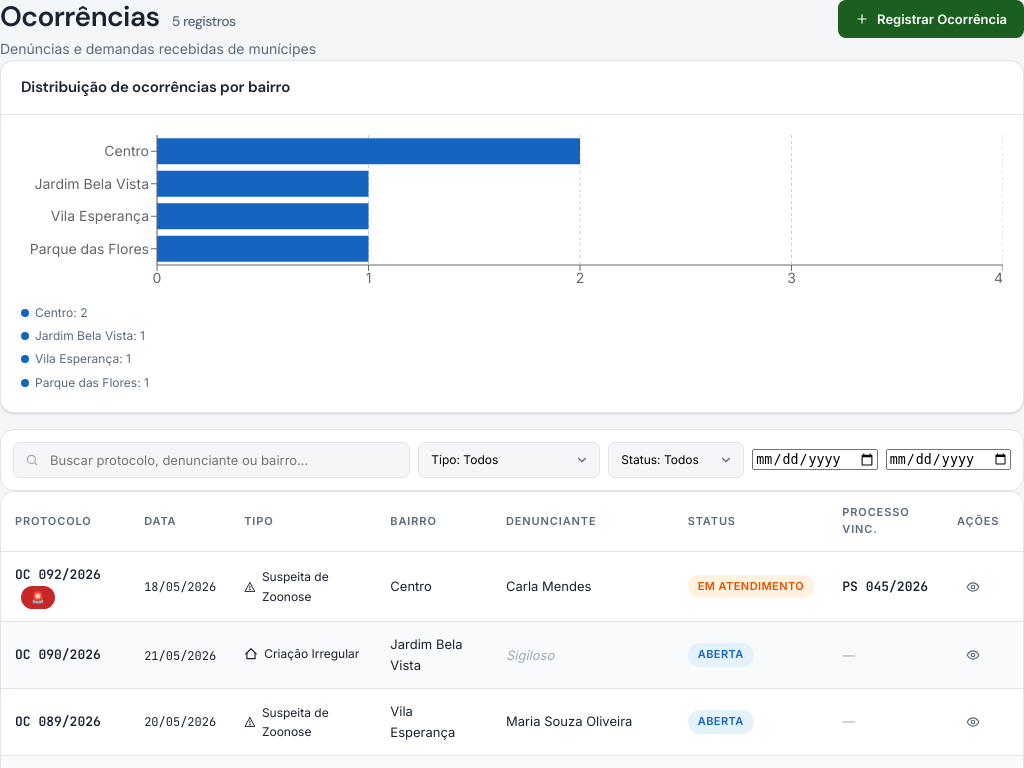
Test case: Ocorrencias › filtra por status enviando o parâmetro `status` em maiúsculas
Check: the text "OC 089/2026" is shown, box [15,713,101,730]
Select "Encerrada" in the dropdown named "Filtrar por status": (676, 460) [608,442,744,478]
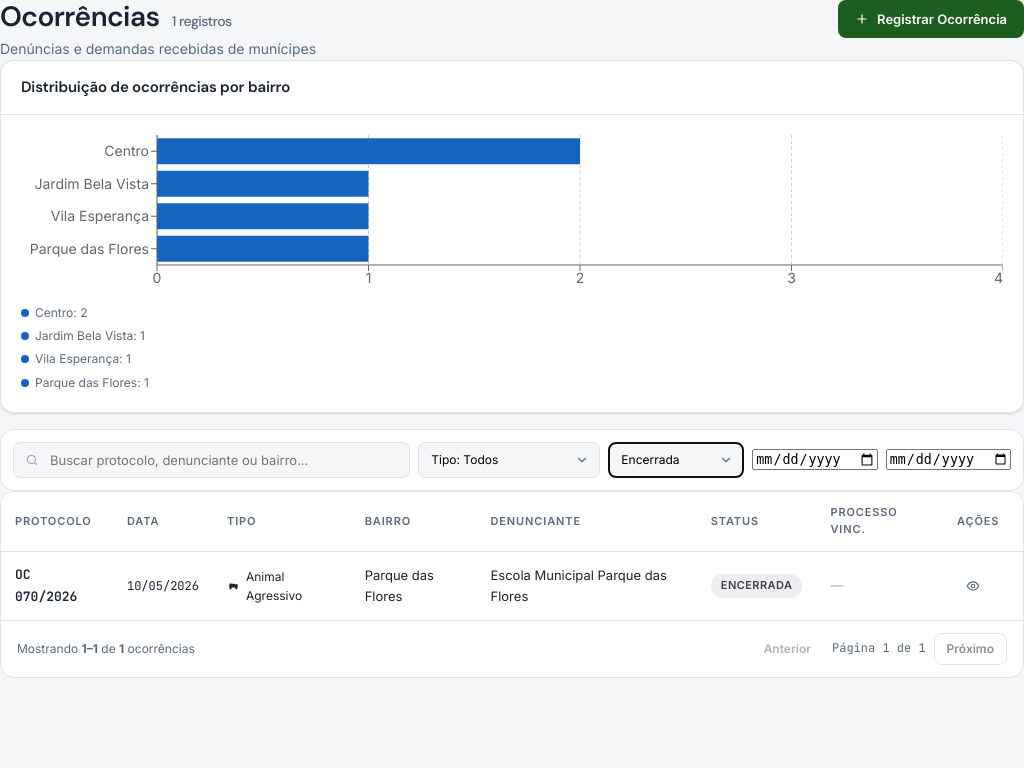
Check: the text "OC 070/2026" is shown, box [15,566,77,605]
Check: the text "OC 089/2026" is gone
